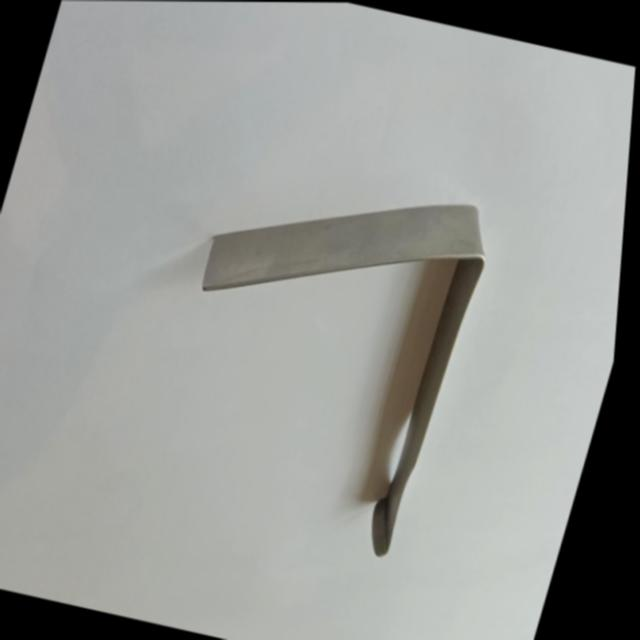AustinRetractor: (132, 138, 515, 577)
